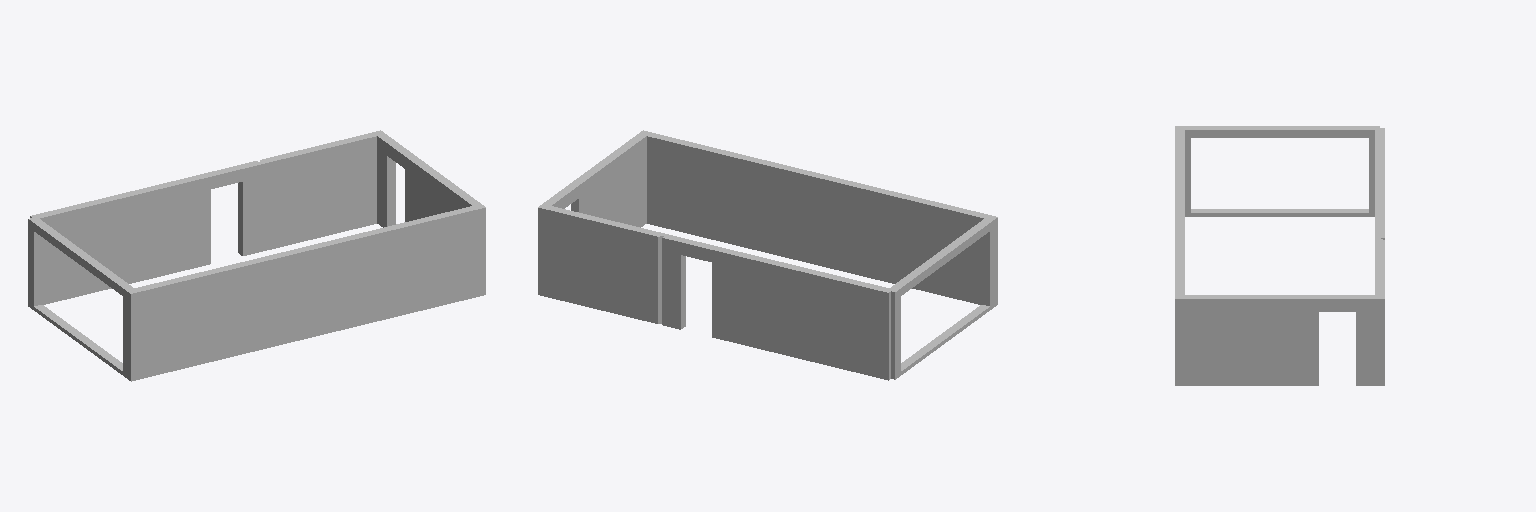
File: wall.obj
3 views of the same model, side by side, from view 1: azimuth 30°, elevation 25°; view 2: azimuth 150°, elevation 25°; view 3: azimuth 270°, elevation 25° (orthographic).
Visible parts, largest first — view 1: wall_6_33; view 2: wall_6_33; view 3: wall_6_33.
Boxes of the visible parts, box(x1,y1,x2,y2) form: wall_6_33: box(28, 130, 485, 381); wall_6_33: box(538, 130, 997, 380); wall_6_33: box(1175, 126, 1384, 385).
Size of the model in its own units: 16.85 by 3.97 by 8.65.